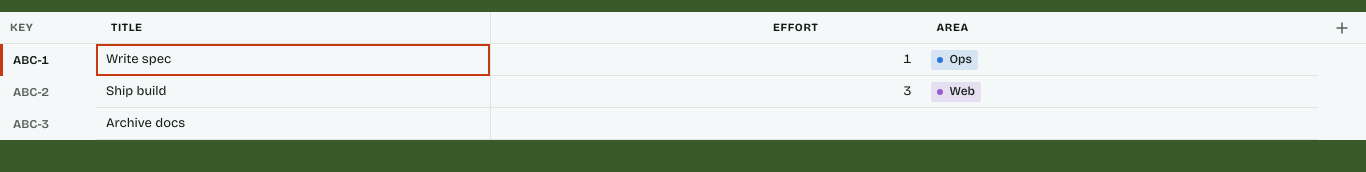
TableView › edit_number_property_saves
The image size is (1366, 172).
Expected: the row "ABC-1 Write spec 1 Ops" is shown, 0,44 -> 1365,76
Click the cell "1".
click(706, 60)  # box 490,44 -> 922,76
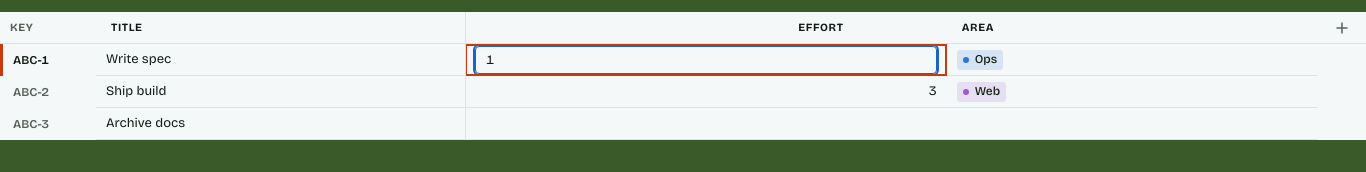
Replace the text in the field named "Effort" with "5" at {"x": 706, "y": 60}, box 475,46 -> 937,74
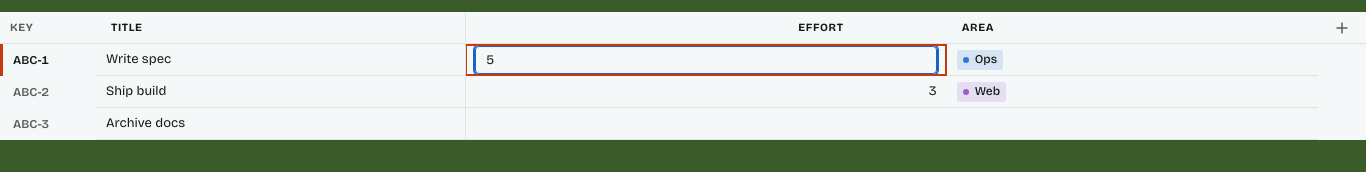
Submit the form, box 475,44 -> 937,75
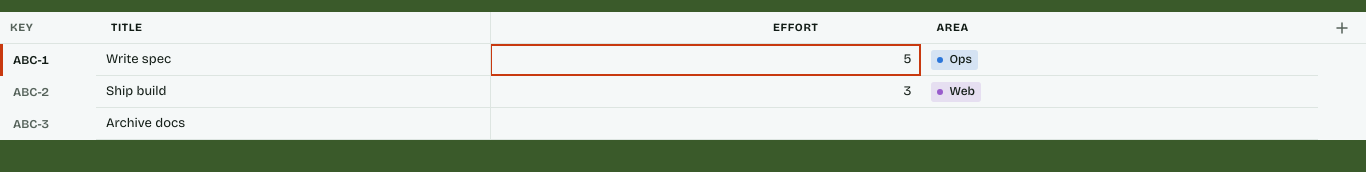
Result: the cell "5" is shown at 490,44 -> 922,76
